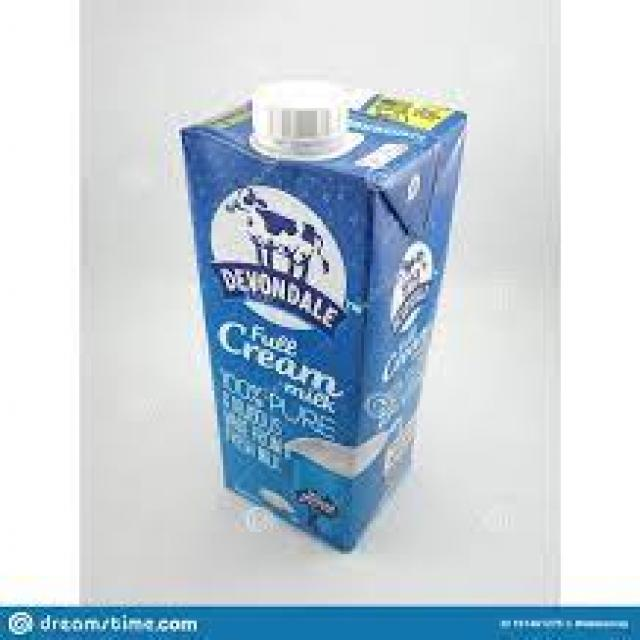non_white_jug: (157, 50, 474, 584)
